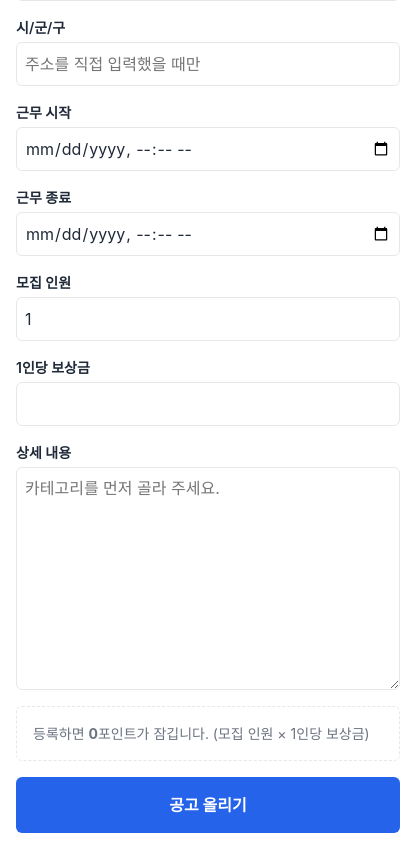
Test case: 공고 등록 (#12) › should not send the request when a required field is empty
The image size is (417, 857).
(page scrolled)
Click the button "공고 올리기" at (208, 805), box [16,777,400,833]
(page scrolled)
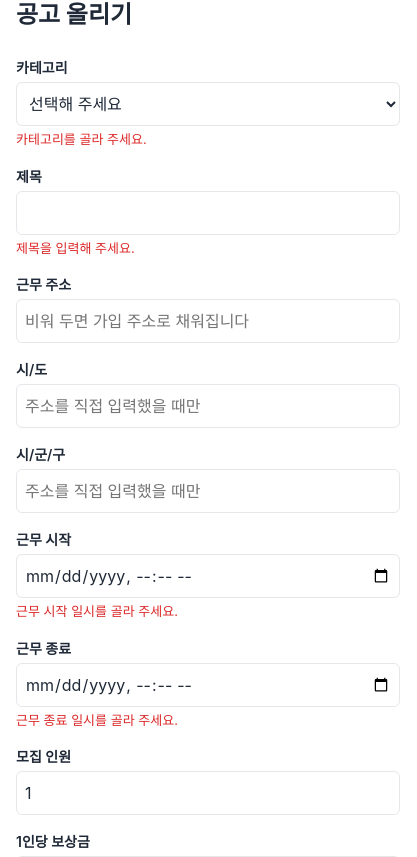
Expected: the text "제목을 입력해 주세요." is shown, [16,240,135,256]
